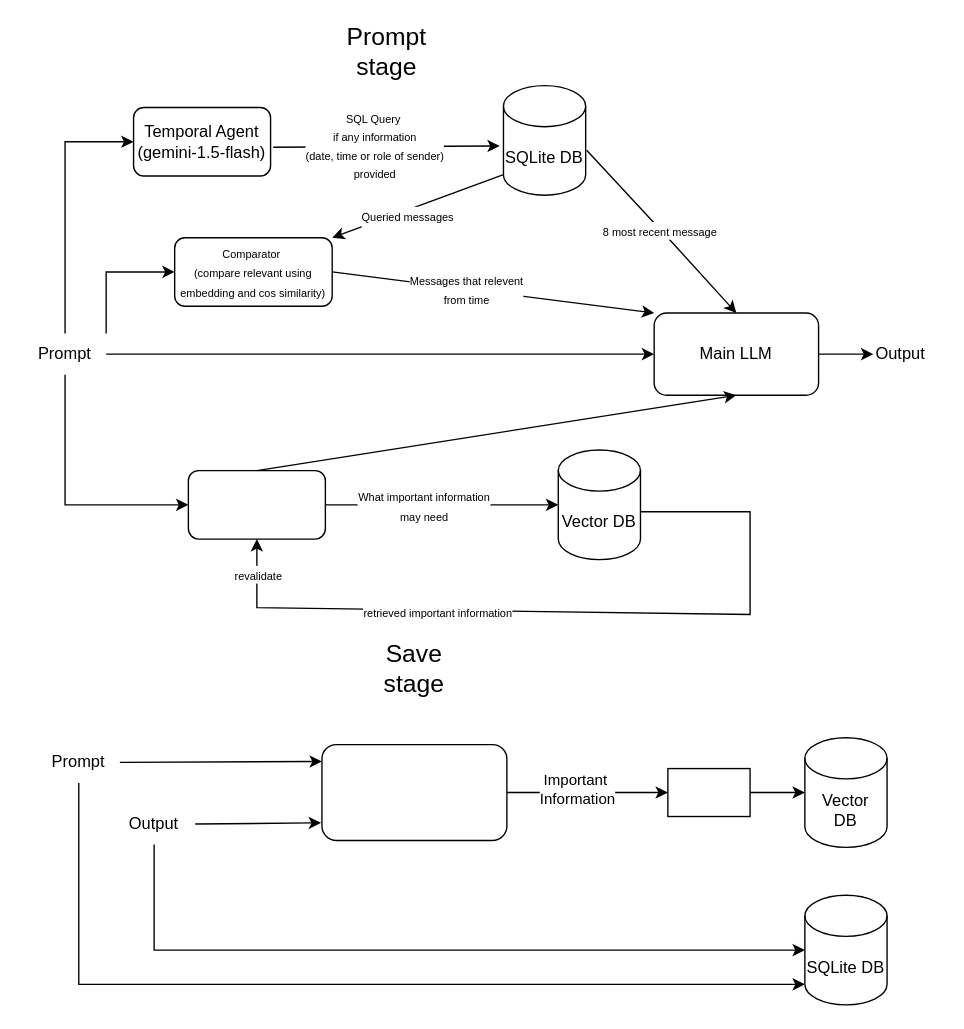
This 964x1029 diagram has some shape labels left out. The shapes that lost their labels are listed below. From the top down, each one's box as (x1, y1, x2, y2) in pixels, then its label:
(187, 469, 325, 539): memorize agent (gemini-1.5-flash)
(321, 743, 507, 840): memorize agent
(667, 767, 750, 817): Embedding
